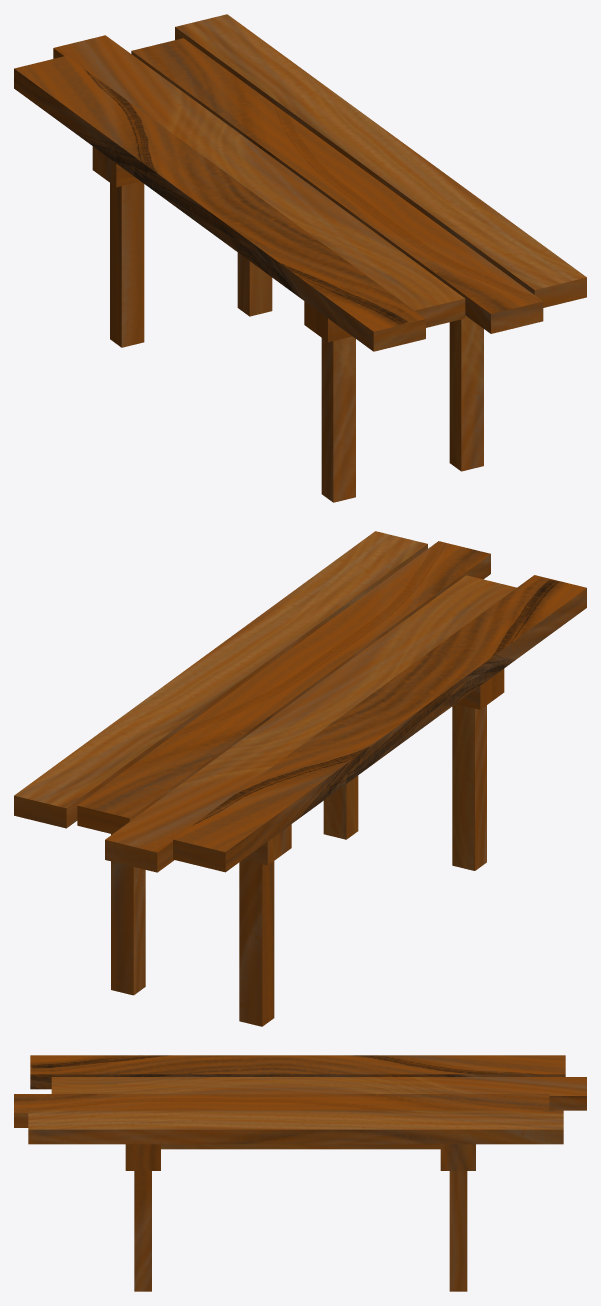
Rendered from TableLong.glb.
3 renders of one model, top to bottom at view 1: azimuth 30°, elevation 25°; view 2: azimuth 150°, elevation 25°; view 3: azimuth 270°, elevation 25°, orthographic. The views are drawn at different scales.
Parts seen in each view (by area): view 1: TableLong; view 2: TableLong; view 3: TableLong.
Part boxes in pixels (bbox=[...]): TableLong: bbox=[14, 14, 586, 502]; TableLong: bbox=[14, 531, 586, 1026]; TableLong: bbox=[14, 1055, 586, 1291].
Size of the model in its own units: 3.33 by 3.5 by 10.48.
1 material, 1 textured.
